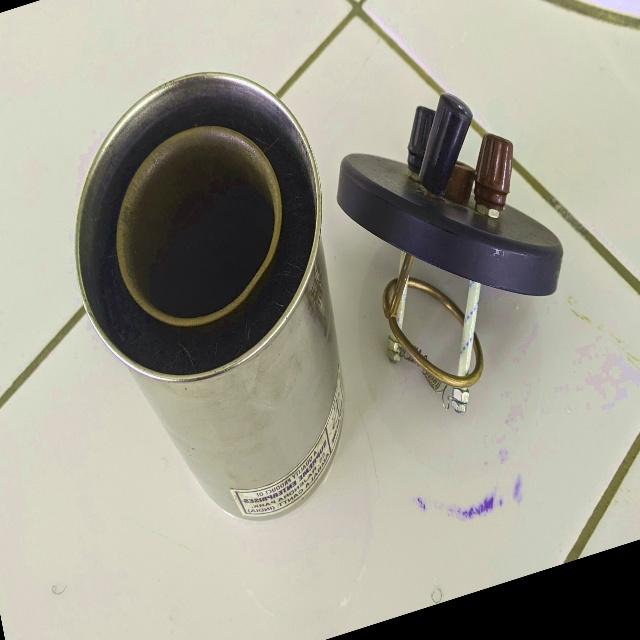Joule-s Calorimeter: (33, 2, 390, 593)
